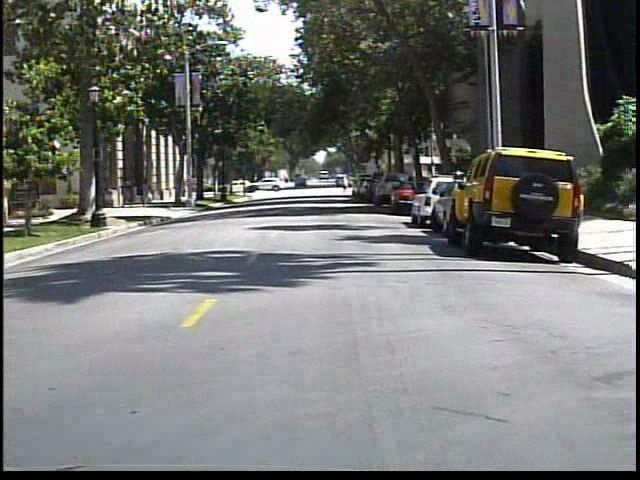person: (119, 174, 139, 209), (137, 176, 157, 209), (341, 171, 355, 195)
